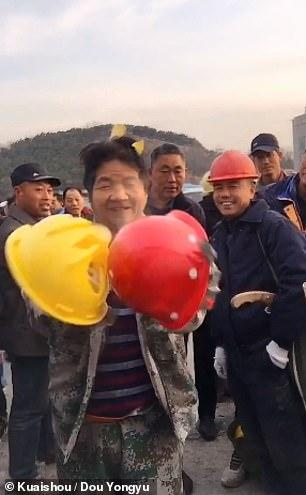helmet: (109, 211, 213, 334), (6, 216, 112, 328), (207, 148, 263, 184)
